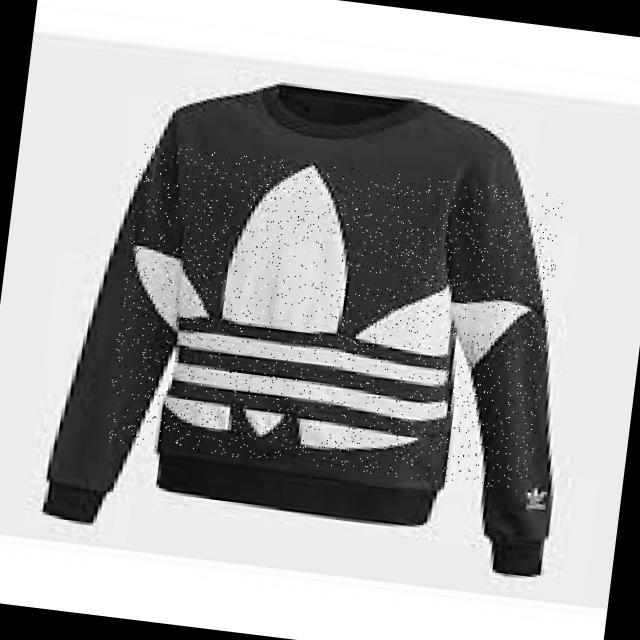Adidas: (103, 142, 564, 493), (517, 484, 555, 506)
